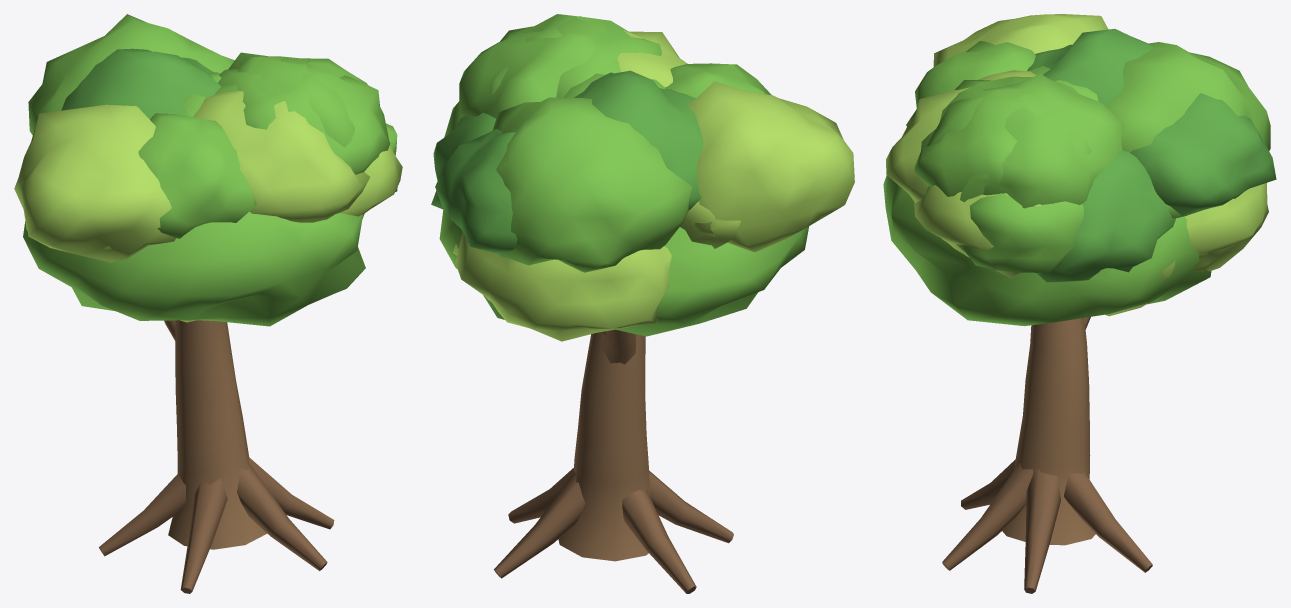
Rendered from Tree_D_Young.fbx.
The picture shows the model from 3 angles, left to right: view 1: azimuth 30°, elevation 25°; view 2: azimuth 150°, elevation 25°; view 3: azimuth 270°, elevation 25°; orthographic projection. The views are drawn at different scales.
Parts seen in each view (by area): view 1: Tree_D_Young; view 2: Tree_D_Young; view 3: Tree_D_Young.
Boxes of the visible parts, left/top/right/bottom form: Tree_D_Young: left=14, top=14, right=402, bottom=593; Tree_D_Young: left=431, top=14, right=854, bottom=593; Tree_D_Young: left=883, top=14, right=1276, bottom=593.
Size of the model in its own units: 2.12 by 2.7 by 1.96.
